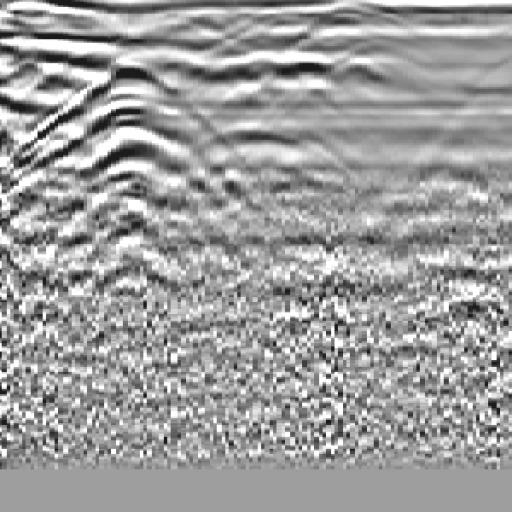metalic: (4, 44, 274, 313)
